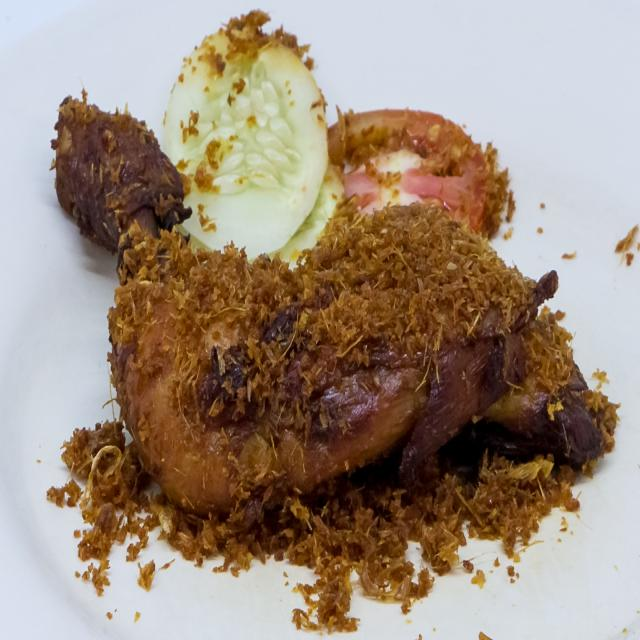Ayam-Goreng-Lengkuas: (25, 52, 626, 544)
